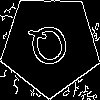Q: (25, 20, 75, 78)
